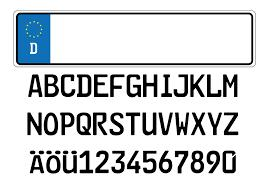0: (221, 148, 237, 174)
1: (78, 149, 94, 175)
2: (95, 148, 111, 175)
3: (111, 148, 126, 174)
4: (127, 148, 142, 174)
5: (142, 149, 158, 175)
6: (158, 148, 173, 175)
7: (173, 148, 189, 175)
8: (189, 149, 206, 175)
9: (206, 148, 220, 175)
A: (26, 73, 44, 99)
B: (43, 72, 60, 98)
C: (59, 72, 76, 98)
D: (76, 72, 92, 98)
E: (92, 71, 109, 98)
F: (108, 74, 125, 98)
G: (126, 72, 142, 99)
H: (142, 71, 159, 98)
I: (160, 72, 173, 99)
J: (172, 72, 189, 98)
K: (189, 72, 206, 99)
L: (206, 71, 222, 98)
M: (222, 72, 239, 99)
N: (26, 111, 43, 136)
O: (43, 111, 59, 137)
P: (59, 111, 76, 136)
Q: (76, 110, 92, 136)
R: (91, 111, 109, 136)
S: (109, 110, 125, 136)
T: (126, 111, 141, 136)
U: (141, 111, 158, 137)
V: (158, 110, 173, 136)
W: (174, 110, 190, 137)
X: (190, 109, 207, 137)
Y: (207, 109, 222, 137)
Z: (223, 109, 240, 138)
ae: (28, 148, 45, 175)
oe: (46, 148, 61, 174)
ue: (62, 147, 78, 175)
